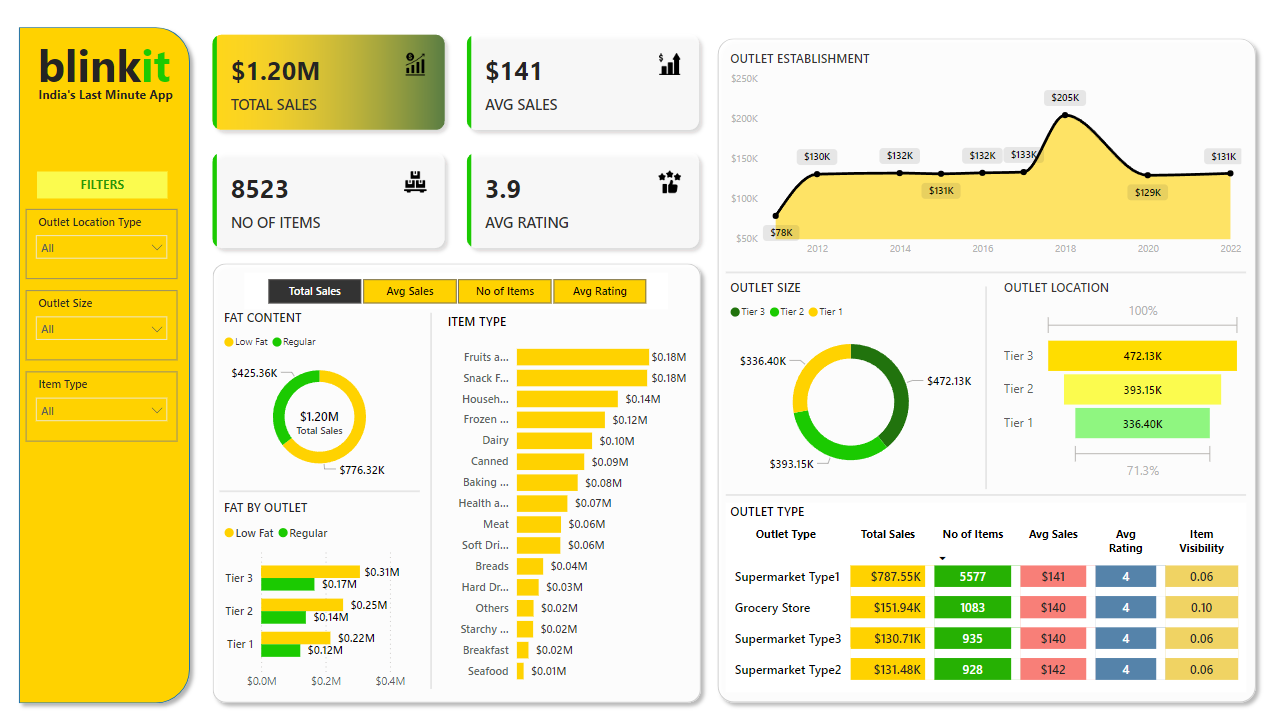

Layout of this report page (visuals, bound fields, positions):
{"tool":"powerbi","page":{"name":"Page 1","canvas":[1400,800],"ordinal":0},"visuals":[{"type":"shape","box":[15,27,205.6,760],"z":0},{"type":"textbox","box":[32.2,40.2,171.6,73.7],"z":1000},{"type":"textbox","box":[24.1,96.5,189,33.5],"z":2000},{"type":"cardVisual","fields":{"Data":["BlinkIT Grocery Data.Total Sales","BlinkIT Grocery Data.Avg Sales","BlinkIT Grocery Data.No of Items","BlinkIT Grocery Data.Avg Rating"]},"box":[219.8,26.8,569.7,269.4],"z":3000},{"type":"shape","box":[227.9,286.9,553.6,500],"z":4000},{"type":"donutChart","title":"FAT CONTENT","fields":{"Y":["BlinkIT Grocery Data.Total Sales"],"Category":["BlinkIT Grocery Data.Item Fat Content"]},"box":[244,345.8,219.8,191.7],"z":5000},{"type":"slicer","fields":{"Values":["Metrics.Metrics"]},"box":[272.1,305.6,465.1,40.2],"z":6000},{"type":"cardVisual","fields":{"Data":["BlinkIT Grocery Data.Total Sales"]},"box":[292.2,437,123.3,59],"z":7000},{"type":"clusteredBarChart","title":"FAT BY OUTLET","fields":{"Y":["BlinkIT Grocery Data.Total Sales"],"Category":["BlinkIT Grocery Data.Outlet Location Type"],"Series":["BlinkIT Grocery Data.Item Fat Content"]},"box":[244,553.6,219.8,218.5],"z":8000},{"type":"shape","box":[244,534.9,219.8,21.4],"z":9000},{"type":"shape","box":[463.8,349.9,25.5,412.9],"z":10000},{"type":"barChart","title":"ITEM TYPE","fields":{"Y":["BlinkIT Grocery Data.Total Sales"],"Category":["BlinkIT Grocery Data.Item Type"]},"box":[489.3,349.9,272.1,416.9],"z":11000},{"type":"shape","box":[781.5,40.2,608.6,746.7],"z":12000},{"type":"lineChart","title":"OUTLET ESTABLISHMENT","fields":{"Y":["BlinkIT Grocery Data.Total Sales"],"Category":["BlinkIT Grocery Data.Outlet Establishment Year"]},"box":[800.3,61.7,571,234.6],"z":13000},{"type":"shape","box":[800.3,290.9,571,29.5],"z":14000},{"type":"donutChart","title":"OUTLET SIZE","fields":{"Y":["BlinkIT Grocery Data.Total Sales"],"Category":["BlinkIT Grocery Data.Outlet Location Type"]},"box":[800.3,312.3,274.8,225.2],"z":15000},{"type":"shape","box":[1072.4,320.4,25.5,222.5],"z":16000},{"type":"funnel","title":"OUTLET LOCATION","fields":{"Y":["Sum(BlinkIT Grocery Data.Sales)"],"Category":["BlinkIT Grocery Data.Outlet Location Type"]},"box":[1100.5,312.3,270.8,225.2],"z":17000},{"type":"shape","box":[800.3,534.9,571,29.5],"z":18000},{"type":"pivotTable","title":"OUTLET TYPE","fields":{"Rows":["BlinkIT Grocery Data.Outlet Type"],"Values":["BlinkIT Grocery Data.Total Sales","BlinkIT Grocery Data.No of Items","BlinkIT Grocery Data.Avg Sales","BlinkIT Grocery Data.Avg Rating","Avg(BlinkIT Grocery Data.Item Visibility)"]},"box":[800.3,559,571,207.8],"z":19000},{"type":"slicer","fields":{"Values":["BlinkIT Grocery Data.Outlet Location Type"]},"box":[32.2,235.9,166.2,76.4],"z":20000},{"type":"slicer","fields":{"Values":["BlinkIT Grocery Data.Outlet Size"]},"box":[32.2,325.7,166.2,76.4],"z":21000},{"type":"slicer","fields":{"Values":["BlinkIT Grocery Data.Item Type"]},"box":[32.2,414.2,166.2,76.4],"z":22000},{"type":"textbox","box":[44.2,194.4,143.4,29.5],"z":23000}]}

Visuals, with their boxes in screenshot pixels (x1, y1, x2, y2), scaled from the page's 1400x800 canvas onto the 1266x713 screenshot:
shape: <region>14, 24, 199, 701</region>
textbox: <region>29, 36, 184, 102</region>
textbox: <region>22, 86, 193, 116</region>
cardVisual - BlinkIT Grocery Data.Total Sales x BlinkIT Grocery Data.Avg Sales: <region>199, 24, 714, 264</region>
shape: <region>206, 256, 707, 701</region>
"FAT CONTENT" donutChart: <region>221, 308, 419, 479</region>
slicer - Metrics.Metrics: <region>246, 272, 667, 308</region>
cardVisual - BlinkIT Grocery Data.Total Sales: <region>264, 389, 376, 442</region>
"FAT BY OUTLET" clusteredBarChart: <region>221, 493, 419, 688</region>
shape: <region>221, 477, 419, 496</region>
shape: <region>419, 312, 442, 680</region>
"ITEM TYPE" barChart: <region>442, 312, 689, 683</region>
shape: <region>707, 36, 1257, 701</region>
"OUTLET ESTABLISHMENT" lineChart: <region>724, 55, 1240, 264</region>
shape: <region>724, 259, 1240, 286</region>
"OUTLET SIZE" donutChart: <region>724, 278, 972, 479</region>
shape: <region>970, 286, 993, 484</region>
"OUTLET LOCATION" funnel: <region>995, 278, 1240, 479</region>
shape: <region>724, 477, 1240, 503</region>
"OUTLET TYPE" pivotTable: <region>724, 498, 1240, 683</region>
slicer - BlinkIT Grocery Data.Outlet Location Type: <region>29, 210, 179, 278</region>
slicer - BlinkIT Grocery Data.Outlet Size: <region>29, 290, 179, 358</region>
slicer - BlinkIT Grocery Data.Item Type: <region>29, 369, 179, 437</region>
textbox: <region>40, 173, 170, 200</region>
